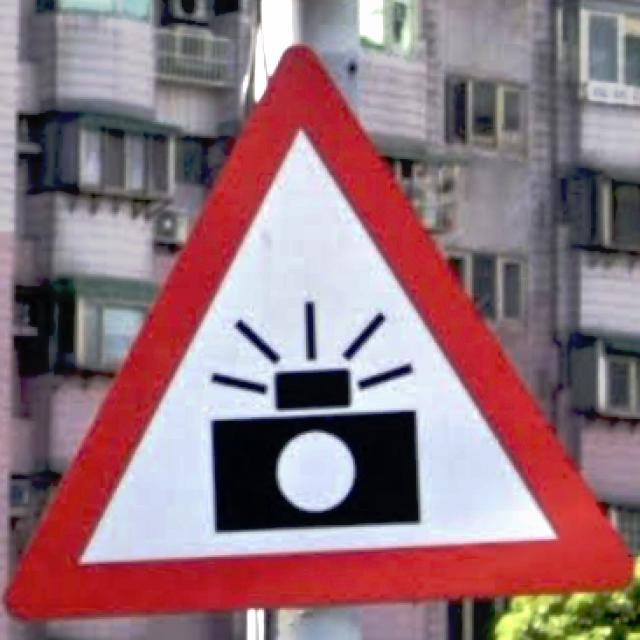speedcamera: (7, 44, 633, 624)
